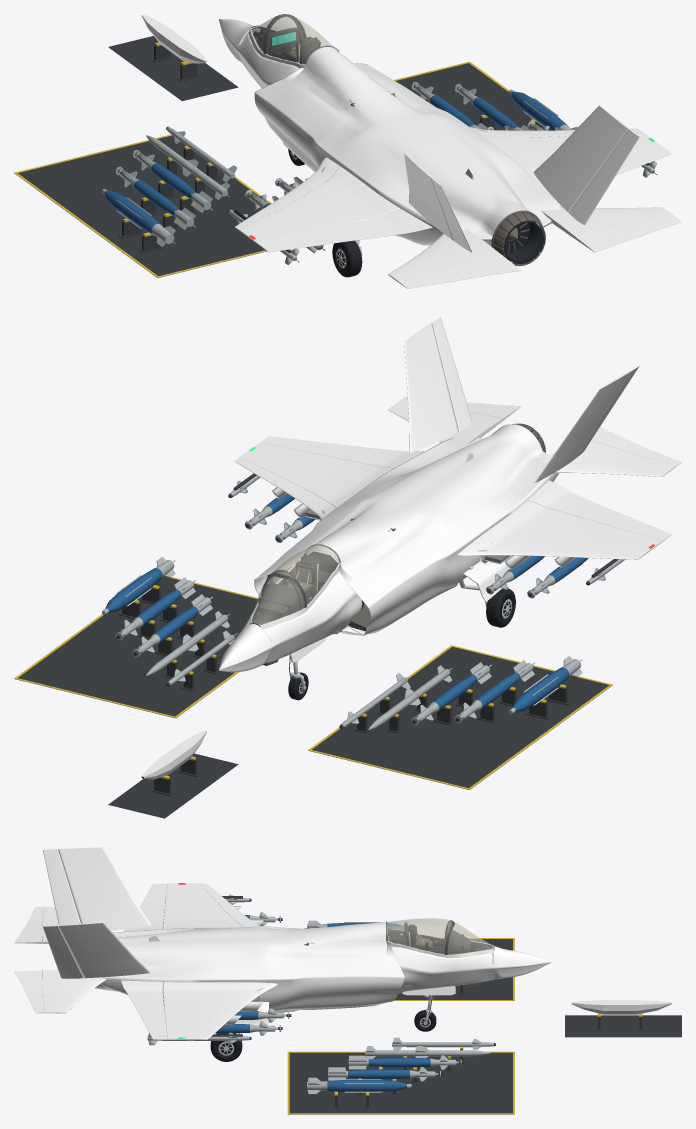
Rendered from f35b-hangar-x3.glb.
3 renders of one model, top to bottom at view 1: azimuth 30°, elevation 25°; view 2: azimuth 150°, elevation 25°; view 3: azimuth 270°, elevation 25°, orthographic. The views are drawn at different scales.
Parts seen in each view (by area): view 1: Web_Loadout | hangar display stores and stands, Web_Static_Web_Aircraft_F35B_fusC.001, Web_Static_Web_Aircraft_F35B_fusA, Web_Static_Web_Aircraft_F35B_wingL, Web_Airframe | R fixed fin, Web_Static_Web_Aircraft_F35B_fuselage, Web_Airframe | Horizontal tail L main surface, Web_Airframe | Wing L trailing flaperon, Web_Static_Web_Rig_LiftFan_Door_liftdoor, Web_Cockpit | continuous closed canopy glass, Web_Airframe | Horizontal tail R main surface, Web_Static_Web_Aircraft_F35B_wingR (+15 smaller); view 2: Web_Loadout | hangar display stores and stands, Web_Static_Web_Aircraft_F35B_fusC.001, Web_Static_Web_Aircraft_F35B_fuselage, Web_Static_Web_Aircraft_F35B_wingL, Web_Static_Web_Aircraft_F35B_fusA, Web_Airframe | R fixed fin, Web_Static_Web_Aircraft_F35B_wingR, Web_Cockpit | continuous closed canopy glass, Web_Airframe | Wing L trailing flaperon, Web_Airframe | Horizontal tail L main surface, Web_Airframe | L fixed fin, Web_Airframe | Wing R trailing flaperon (+13 smaller); view 3: Web_Loadout | hangar display stores and stands, Web_Static_Web_Aircraft_F35B_fusC.001, Web_Static_Web_Aircraft_F35B_fuselage, Web_Airframe | L fixed fin, Web_Static_Web_Aircraft_F35B_wingR, Web_Airframe | R fixed fin, Web_Cockpit | continuous closed canopy glass, Web_Static_Web_Aircraft_F35B_wingL, Web_Static_Web_Aircraft_F35B_fusA, Web_Static_Web_Rig_LiftFan_Door_liftdoor, Web_Airframe | Horizontal tail R main surface, Web_Airframe | Wing R trailing flaperon (+12 smaller).
Boxes of the visible parts, x1,y1,x2,y2 form: Web_Loadout | hangar display stores and stands: (14,14,577,277); Web_Static_Web_Aircraft_F35B_fusC.001: (270,52,526,237); Web_Static_Web_Aircraft_F35B_fusA: (398,167,562,262); Web_Static_Web_Aircraft_F35B_wingL: (239,166,399,245); Web_Airframe | R fixed fin: (533,105,629,212); Web_Static_Web_Aircraft_F35B_fuselage: (219,19,527,240); Web_Airframe | Horizontal tail L main surface: (388,228,502,284); Web_Airframe | Wing L trailing flaperon: (260,208,432,252); Web_Static_Web_Rig_LiftFan_Door_liftdoor: (308,56,397,111); Web_Cockpit | continuous closed canopy glass: (251,14,337,64); Web_Airframe | Horizontal tail R main surface: (541,206,676,240); Web_Static_Web_Aircraft_F35B_wingR: (480,132,662,176); Web_Loadout | hangar display stores and stands: (14,557,612,818); Web_Static_Web_Aircraft_F35B_fusC.001: (272,461,526,632); Web_Static_Web_Aircraft_F35B_fuselage: (219,458,529,672); Web_Static_Web_Aircraft_F35B_wingL: (473,500,662,556); Web_Static_Web_Aircraft_F35B_fusA: (399,424,558,500); Web_Airframe | R fixed fin: (404,323,459,453); Web_Static_Web_Aircraft_F35B_wingR: (240,442,393,507); Web_Cockpit | continuous closed canopy glass: (251,545,339,624); Web_Airframe | Wing L trailing flaperon: (528,480,671,541); Web_Airframe | Horizontal tail L main surface: (541,440,676,476); Web_Airframe | L fixed fin: (533,371,629,483); Web_Airframe | Wing R trailing flaperon: (260,436,424,467); Web_Loadout | hangar display stores and stands: (287,920,681,1114); Web_Static_Web_Aircraft_F35B_fusC.001: (165,923,377,1011); Web_Static_Web_Aircraft_F35B_fuselage: (158,922,550,1005); Web_Airframe | L fixed fin: (58,847,151,930); Web_Static_Web_Aircraft_F35B_wingR: (163,982,254,1040); Web_Airframe | R fixed fin: (58,923,151,978); Web_Cockpit | continuous closed canopy glass: (387,918,493,954); Web_Static_Web_Aircraft_F35B_wingL: (163,883,243,929); Web_Static_Web_Aircraft_F35B_fusA: (94,929,165,1005); Web_Static_Web_Rig_LiftFan_Door_liftdoor: (307,923,369,954); Web_Airframe | Horizontal tail R main surface: (42,970,106,1013); Web_Airframe | Wing R trailing flaperon: (121,980,167,1039).
Size of the model in its own units: 12.1 by 4.67 by 19.4.
